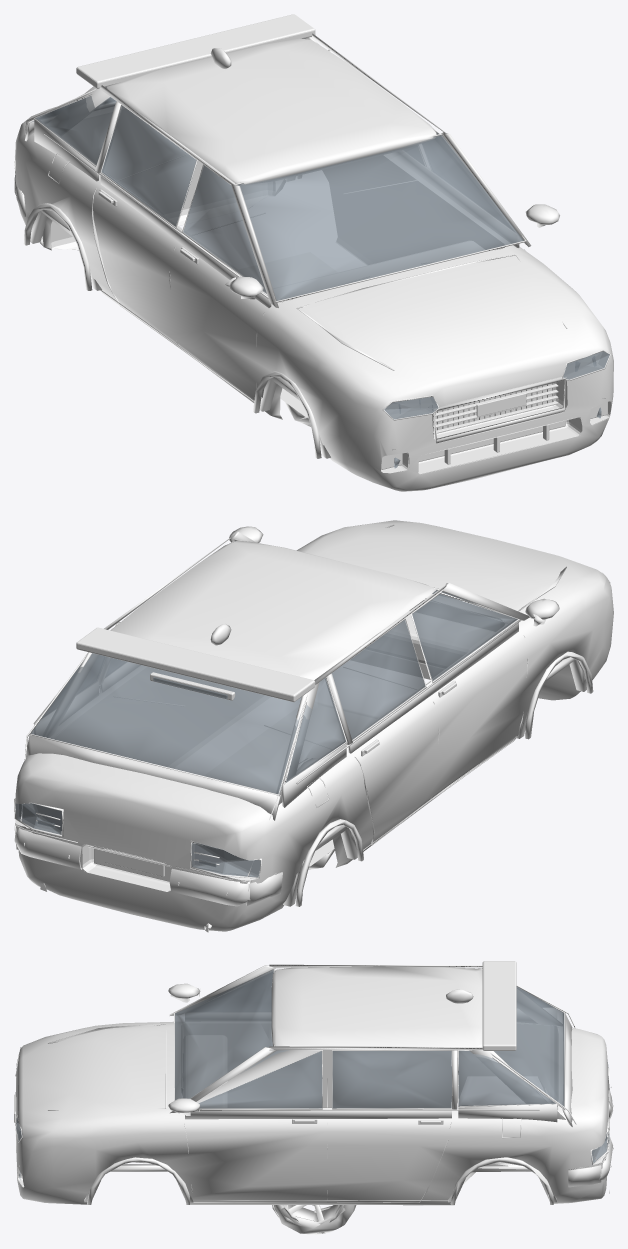
Rendered from hatch-lo.glb.
3 views of the same model, one above another, from view 1: azimuth 30°, elevation 25°; view 2: azimuth 150°, elevation 25°; view 3: azimuth 270°, elevation 25° (orthographic). The views are drawn at different scales.
Visible parts, largest first — view 1: body; view 2: body; view 3: body, wheel.
Part boxes in pixels (x1,y1,x2,y2): body: (14, 14, 613, 491); body: (14, 520, 613, 932); body: (14, 961, 613, 1205); wheel: (272, 1205, 356, 1234).
Size of the model in its own units: 1.98 by 1.78 by 4.
